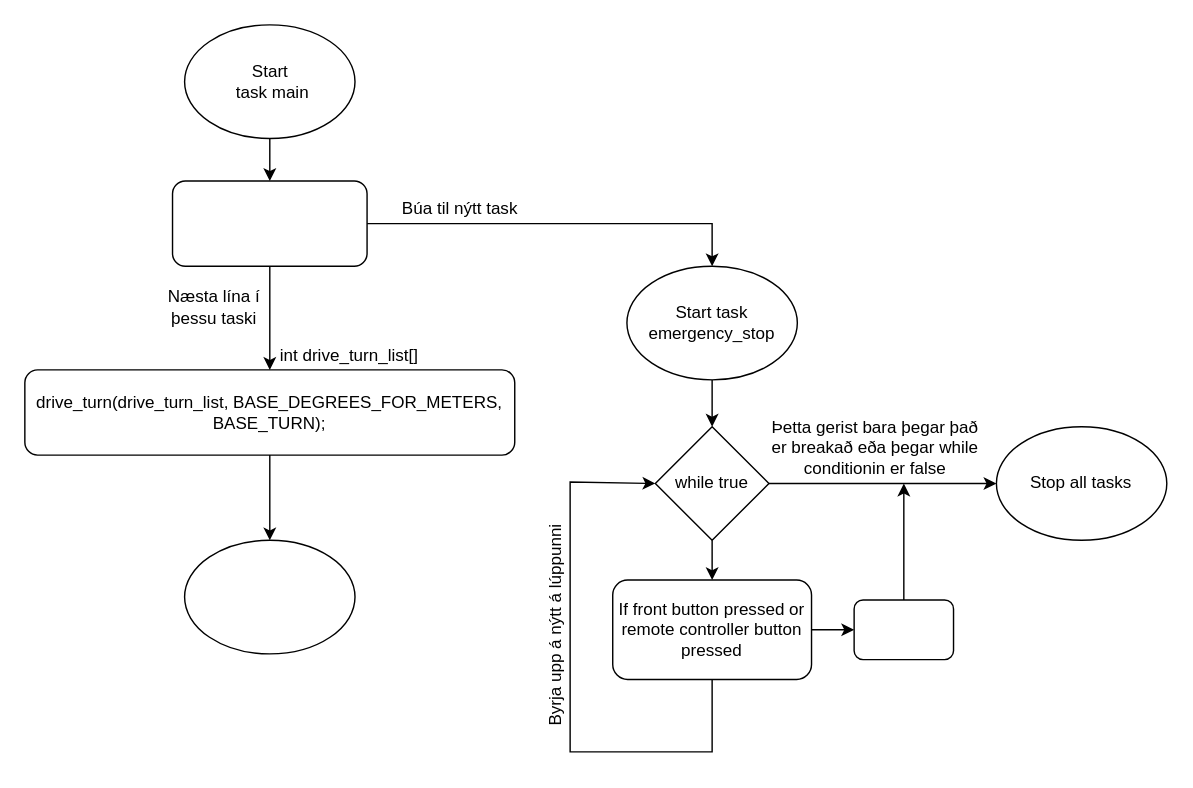
The diagram is 1193 pixels wide and 788 high, and some of its shapes have lost their labels. Here are the shapes that lost their labels. From the top down, the centre of each, then its label:
At [269,223]: "Start new task(emergency_stop)".
At [269,596]: "Stop".
At [903,629]: "break".
